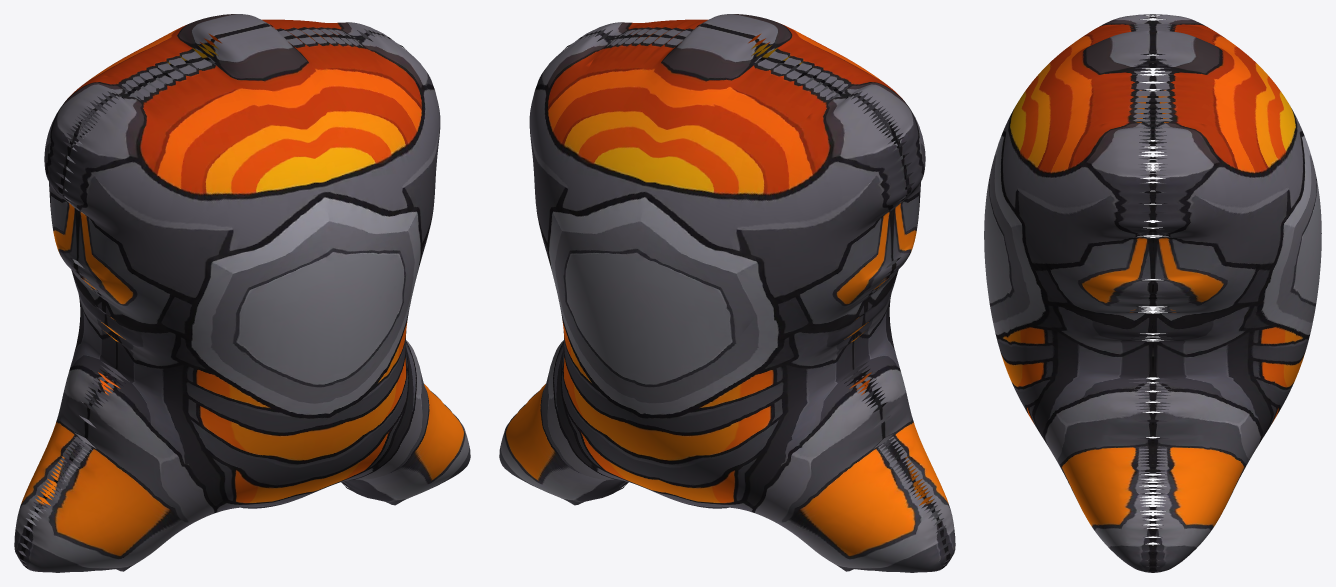
The model's file is sample_reactor.glb.
3 views of the same model, side by side, from view 1: azimuth 30°, elevation 25°; view 2: azimuth 150°, elevation 25°; view 3: azimuth 270°, elevation 25° (orthographic). The views are drawn at different scales.
Parts seen in each view (by area): view 1: sample_reactor; view 2: sample_reactor; view 3: sample_reactor.
Part boxes in pixels (<box>): sample_reactor: <box>14,14,470,572</box>; sample_reactor: <box>499,14,955,572</box>; sample_reactor: <box>984,14,1321,572</box>.
Bounding box in the file's own units: 0.988 × 1.06 × 0.7259.
Materials: 1 (1 with a texture image).
